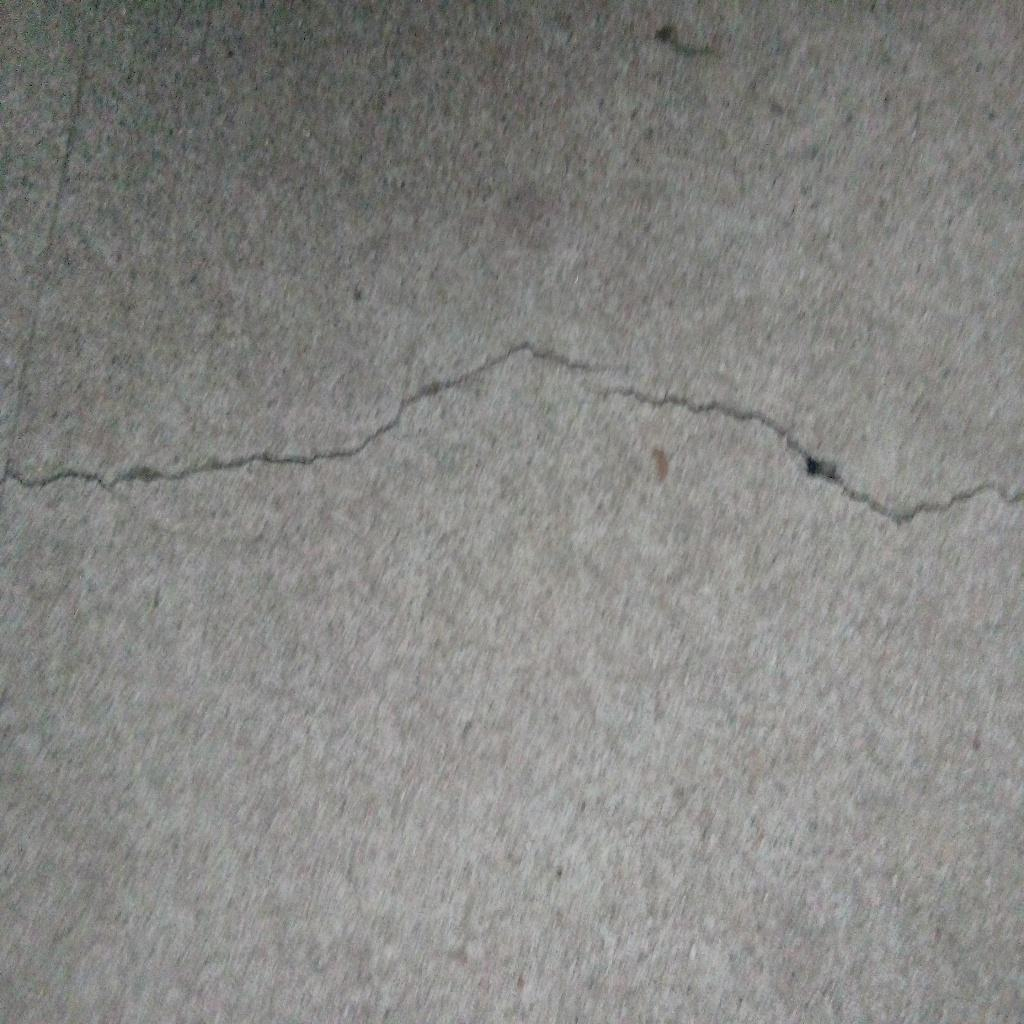Crack: (1, 340, 628, 486), (583, 385, 1024, 530)
